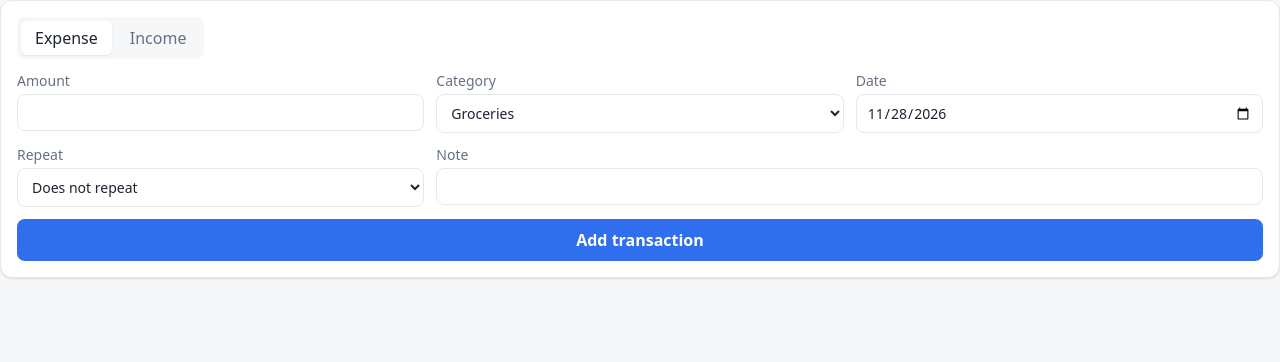
Test: TransactionForm › shows a server error and keeps the input
In the number field labelled "Amount": [221, 112] box 17,94 -> 424,131, type "5"
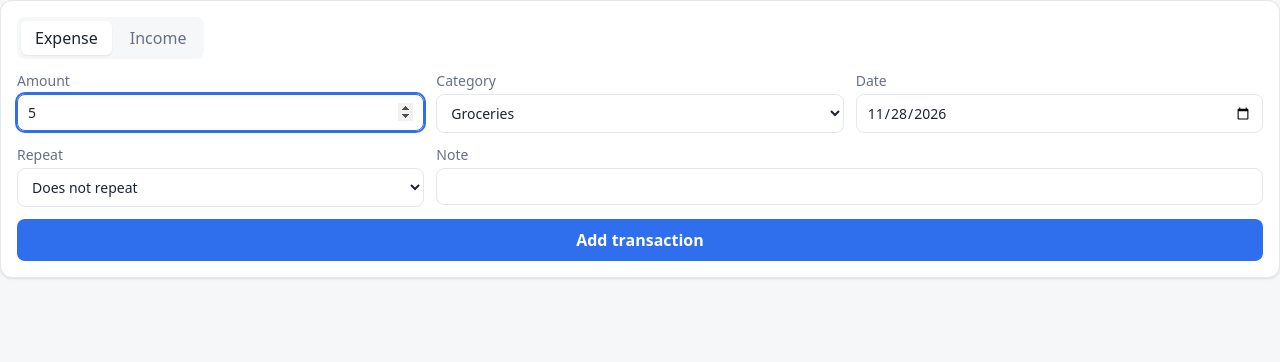
Click the button "Add transaction": [640, 240] box 17,219 -> 1263,261
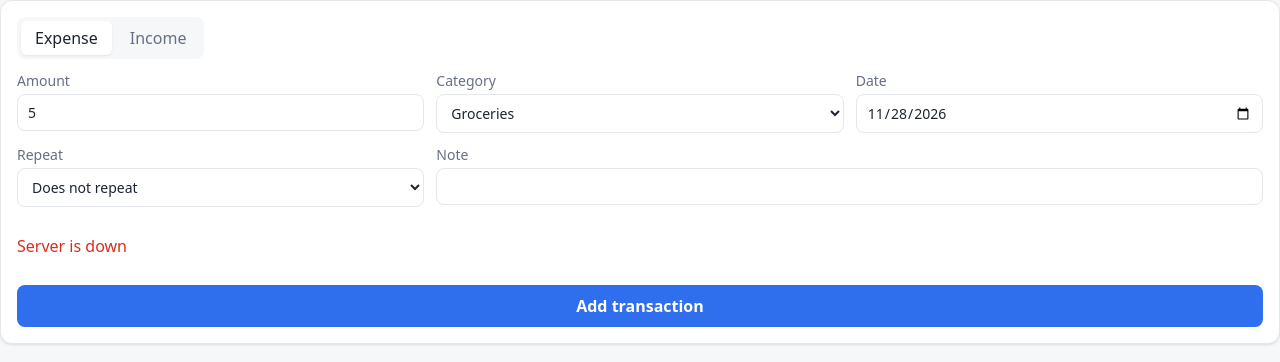
Expected: the text "Server is down" is shown, 17,235 -> 127,257
